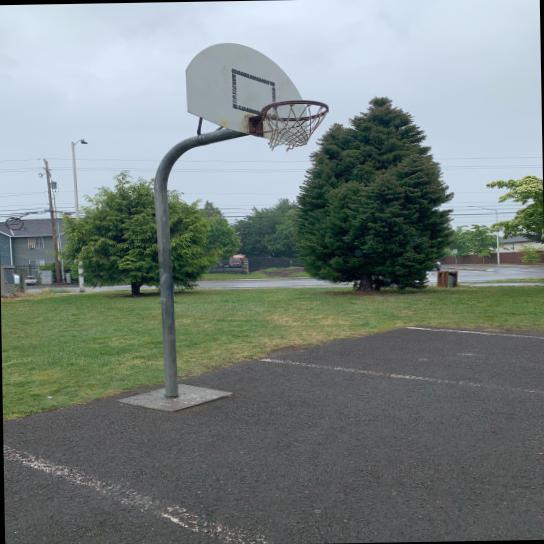basketball-hoop: (260, 97, 332, 153)
